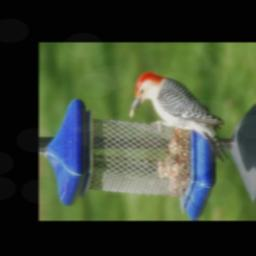Woodpecker: (124, 71, 233, 168)
